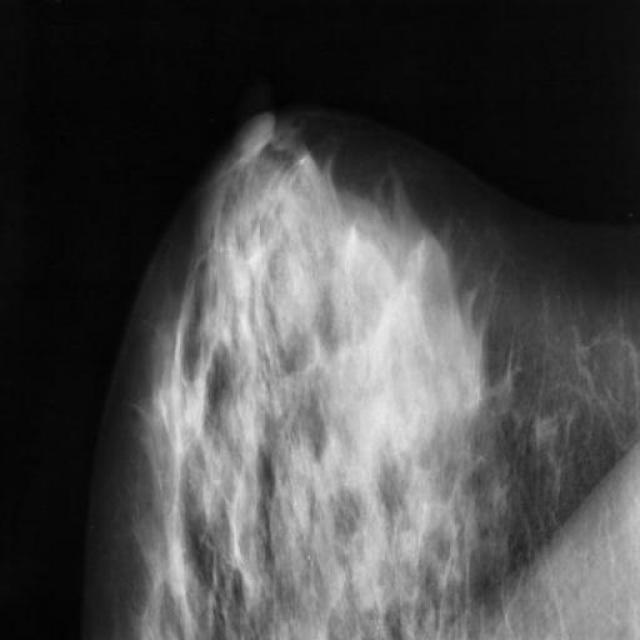cancer: (146, 344, 215, 505)
